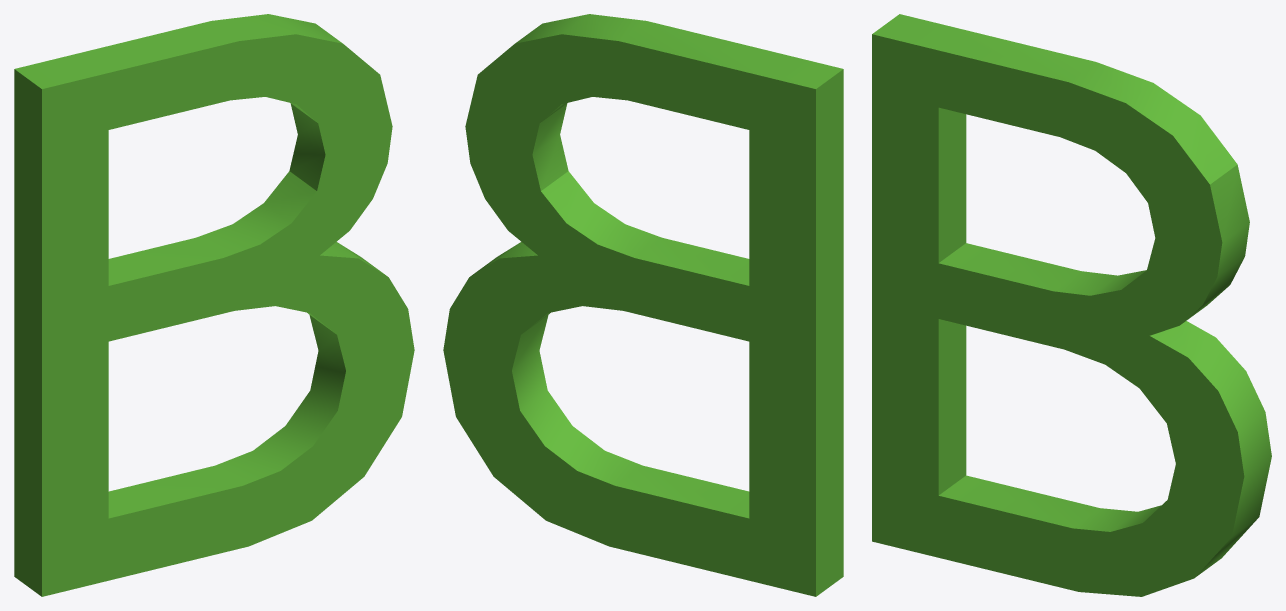
Rendered from letras.obj.
The picture shows the model from 3 angles, left to right: view 1: azimuth 30°, elevation 25°; view 2: azimuth 150°, elevation 25°; view 3: azimuth 330°, elevation 25°; orthographic projection.
Visible parts, largest first — view 1: B; view 2: B; view 3: B.
Part boxes in pixels (x1,y1,x2,y2): B: (14, 14, 414, 596); B: (443, 14, 843, 596); B: (872, 14, 1271, 596).
Bounding box in the file's own units: 0.778 × 1.01 × 0.1.
